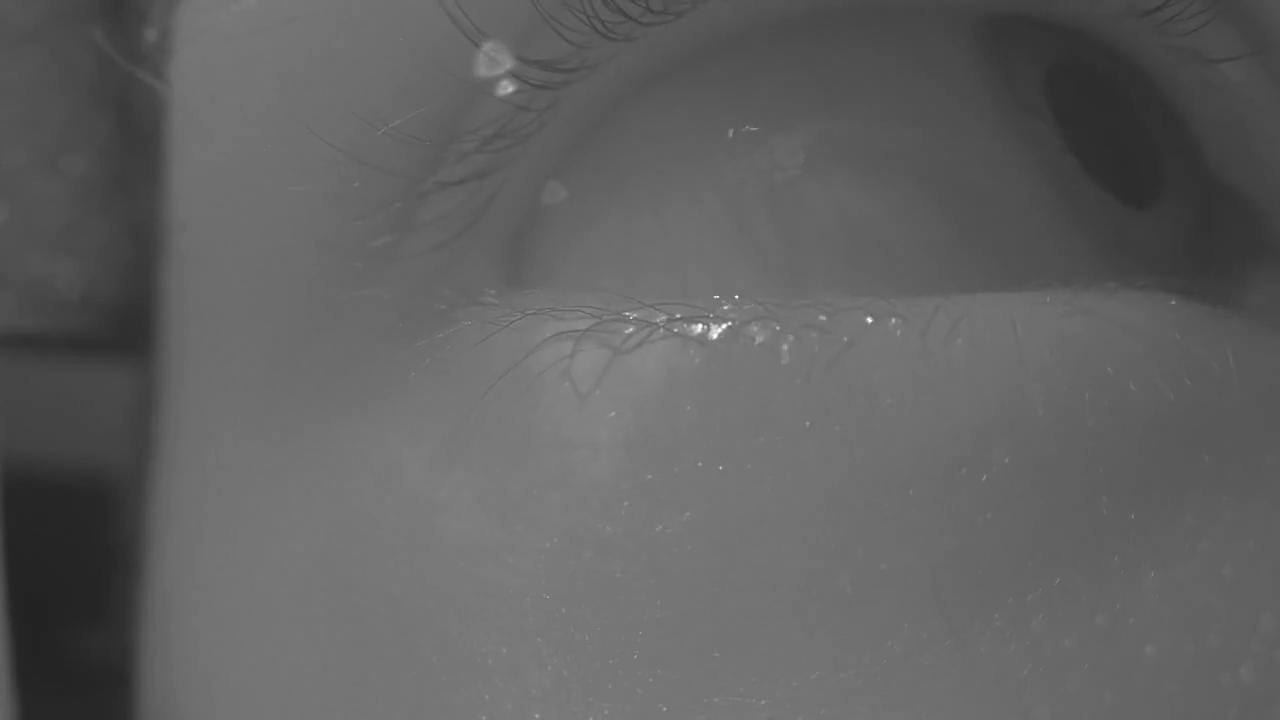pupil: (1043, 56, 1162, 211)
